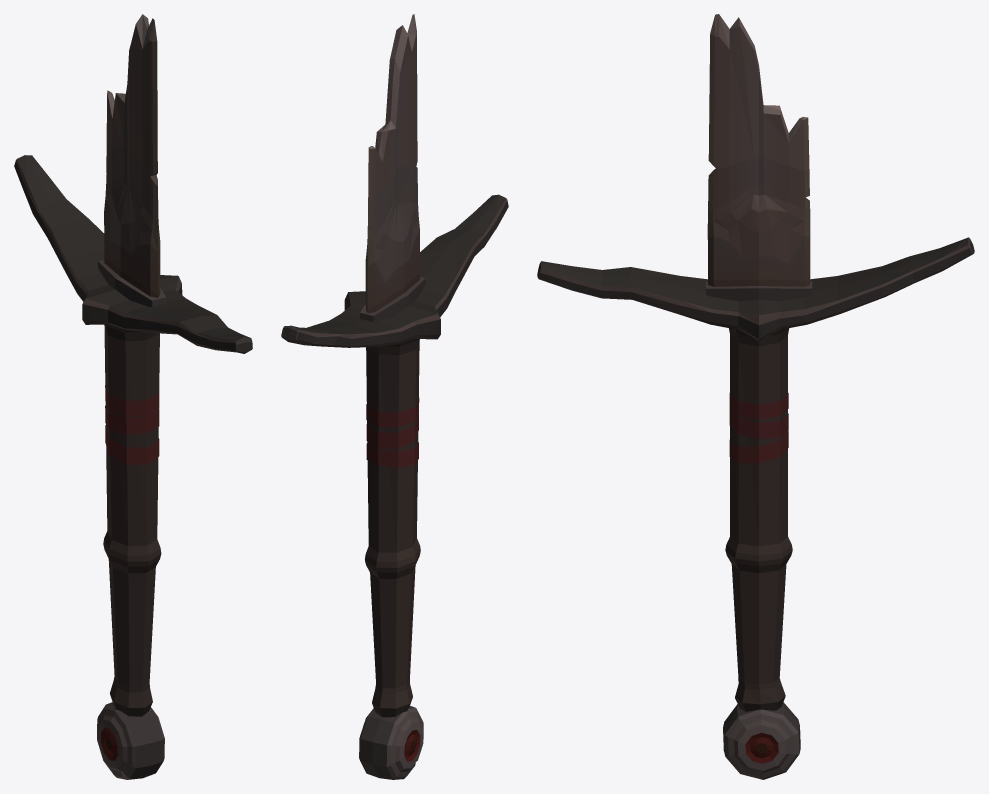
The model's file is bladedLightTwoHandedSwordBroken.glb.
3 renders of one model, left to right at view 1: azimuth 30°, elevation 25°; view 2: azimuth 150°, elevation 25°; view 3: azimuth 270°, elevation 25°, orthographic. The views are drawn at different scales.
Parts seen in each view (by area): view 1: bladedLightTwoHandedSwordBroken; view 2: bladedLightTwoHandedSwordBroken; view 3: bladedLightTwoHandedSwordBroken.
Boxes of the visible parts, box(x1,y1,x2,y2) form: bladedLightTwoHandedSwordBroken: box(14, 14, 252, 779); bladedLightTwoHandedSwordBroken: box(281, 14, 508, 779); bladedLightTwoHandedSwordBroken: box(537, 14, 974, 779).
Size of the model in its own units: 0.0789 by 0.5843 by 0.3047.
